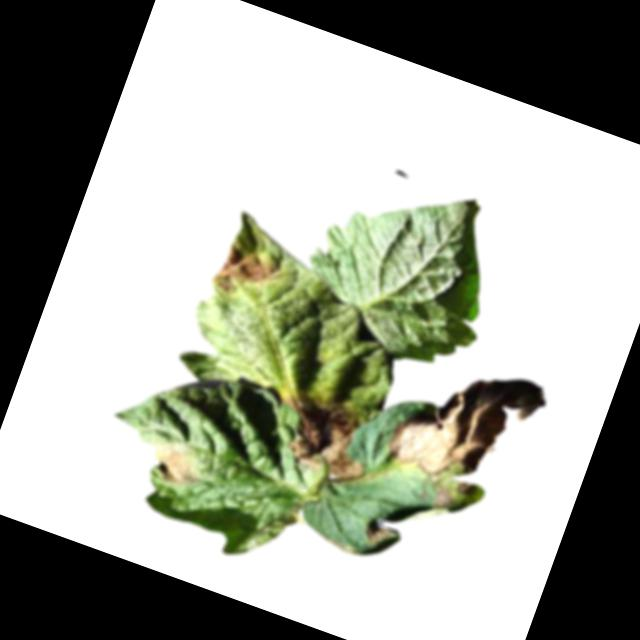Late_blight: (384, 342, 554, 503), (261, 384, 385, 490), (143, 430, 216, 498), (208, 239, 279, 306), (358, 513, 398, 550), (428, 484, 457, 518), (455, 476, 478, 496)
healthy: (285, 152, 522, 383)
